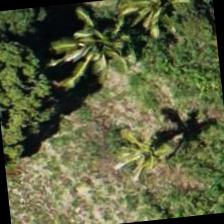Kelapa_Sawit: (101, 106, 200, 204), (0, 49, 95, 149), (15, 0, 112, 77)
